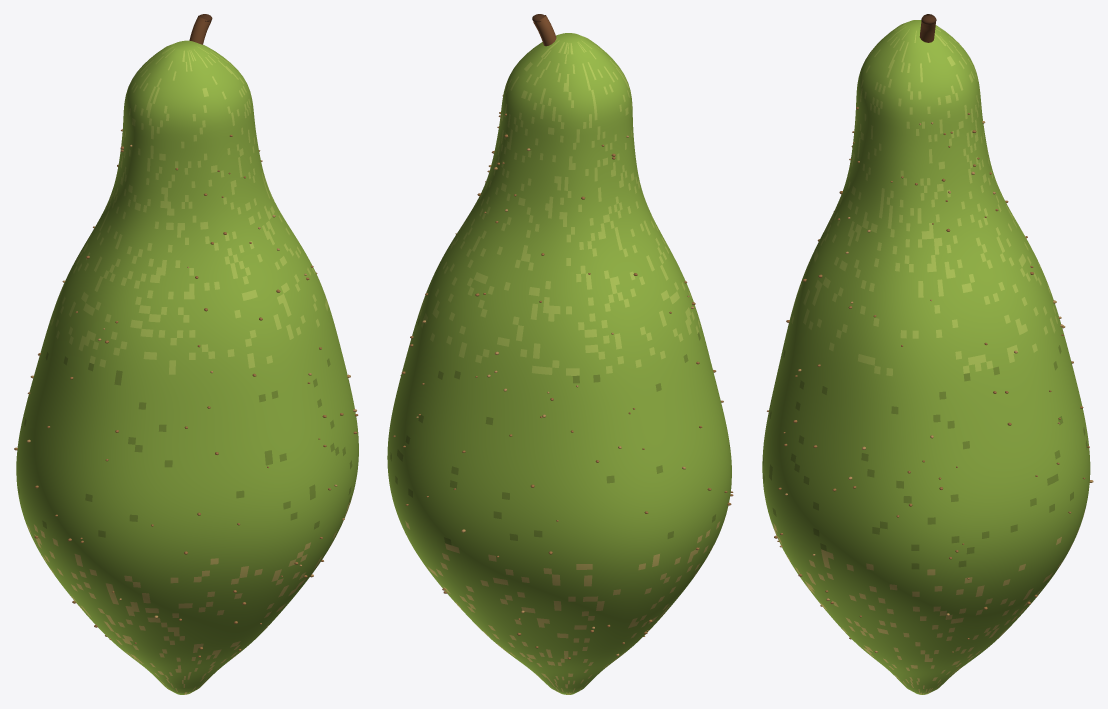
The model's file is Pera.glb.
3 renders of one model, left to right at view 1: azimuth 30°, elevation 25°; view 2: azimuth 150°, elevation 25°; view 3: azimuth 270°, elevation 25°, orthographic. The views are drawn at different scales.
Visible parts, largest first — view 1: Pera_Premium_MESH; view 2: Pera_Premium_MESH; view 3: Pera_Premium_MESH.
Part boxes in pixels (x1,y1,x2,y2): Pera_Premium_MESH: (14, 14, 358, 694); Pera_Premium_MESH: (387, 14, 733, 694); Pera_Premium_MESH: (762, 14, 1093, 694).
Bounding box in the file's own units: 1.31 × 2.73 × 1.19.
